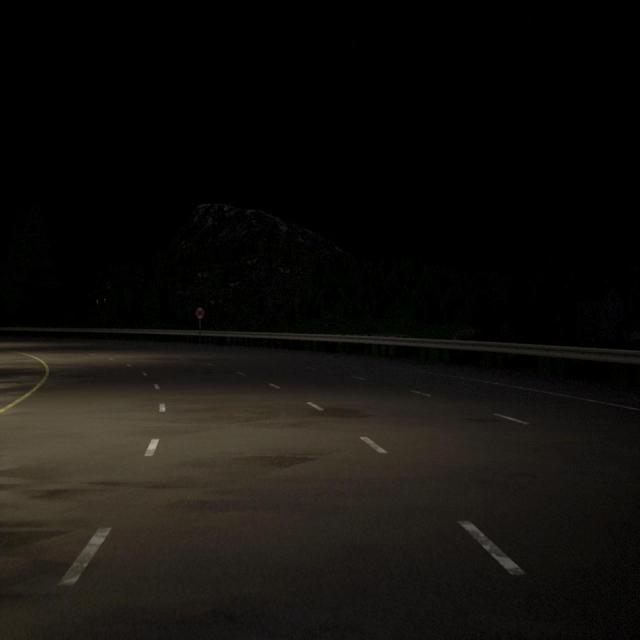Traffic_Signs: (196, 307, 204, 319)
